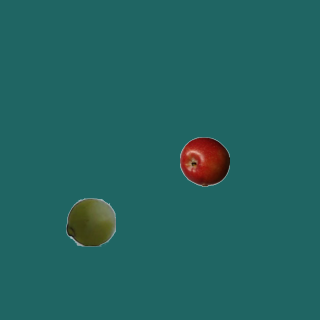Apple Braeburn: (179, 136, 229, 186)
Grape White 4: (65, 196, 115, 246)
